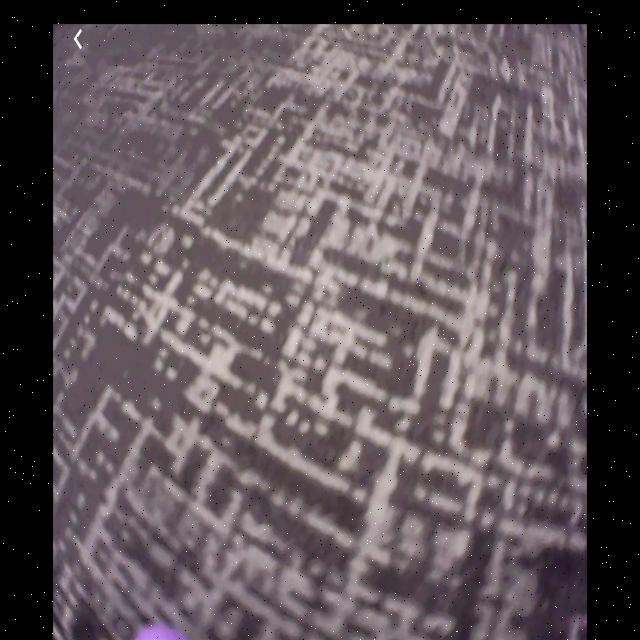ball: (131, 624, 188, 640)
